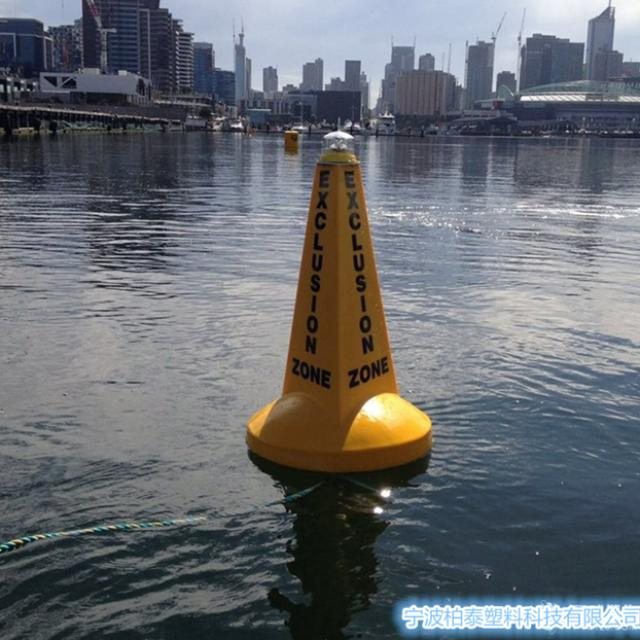buoy: (245, 130, 438, 476)
